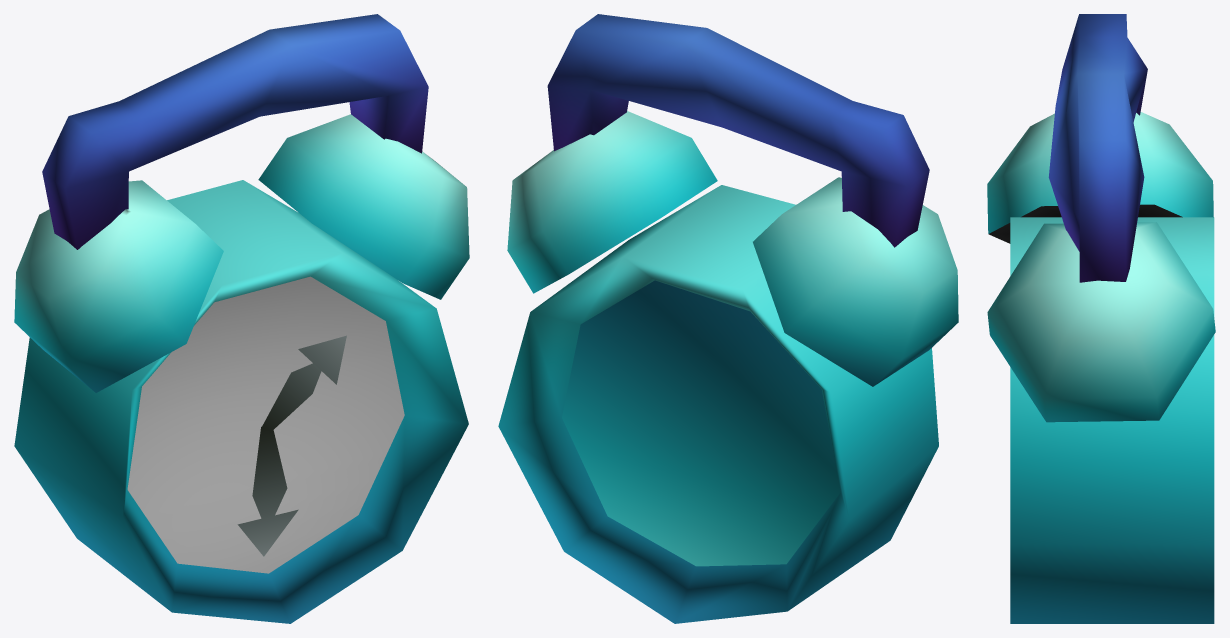
The model's file is limb_Joint_Clock.fbx.
3 views of the same model, side by side, from view 1: azimuth 30°, elevation 25°; view 2: azimuth 150°, elevation 25°; view 3: azimuth 270°, elevation 25° (orthographic). The views are drawn at different scales.
Visible parts, largest first — view 1: Clock, pPlane1, pPlane3; view 2: Clock; view 3: Clock.
Part boxes in pixels (box(x1,y1,x2,y2)): Clock: box(14, 14, 469, 623); pPlane1: box(237, 426, 298, 556); pPlane3: box(261, 335, 346, 432); Clock: box(498, 14, 958, 623); Clock: box(987, 14, 1215, 623).
Size of the model in its own units: 0.4613 by 0.5756 by 0.2136.
